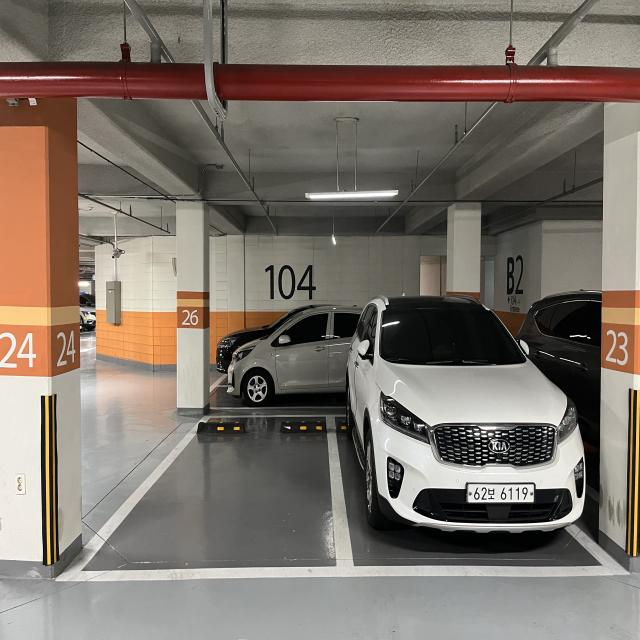empty: (40, 407, 362, 587)
occupied: (348, 280, 608, 557)
